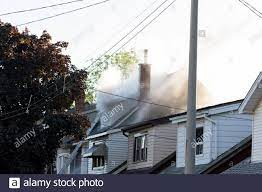smoke: (96, 62, 201, 126)
